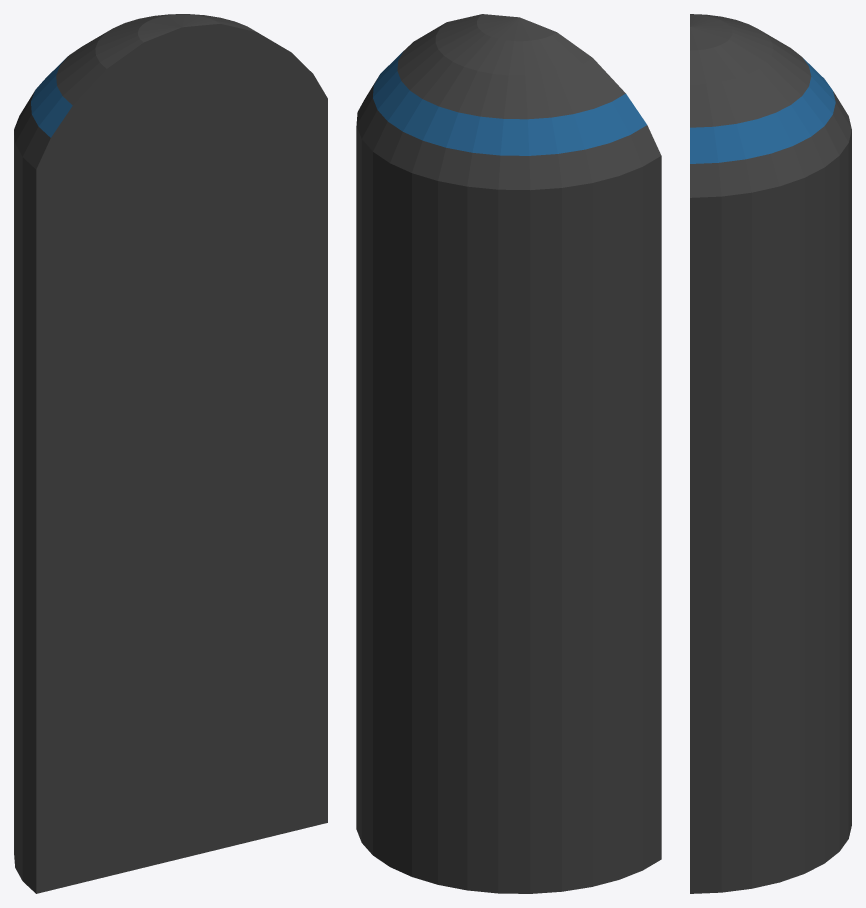
Rendered from cylinder_finger.dae.
3 renders of one model, left to right at view 1: azimuth 30°, elevation 25°; view 2: azimuth 150°, elevation 25°; view 3: azimuth 270°, elevation 25°, orthographic. The views are drawn at different scales.
Parts seen in each view (by area): view 1: Cylinder; view 2: Cylinder; view 3: Cylinder.
Boxes of the visible parts, box(x1,y1,x2,y2) form: Cylinder: box(14, 14, 327, 893); Cylinder: box(356, 14, 661, 893); Cylinder: box(690, 14, 851, 893).
Bounding box in the file's own units: 0.0197 × 0.00986 × 0.0537.
